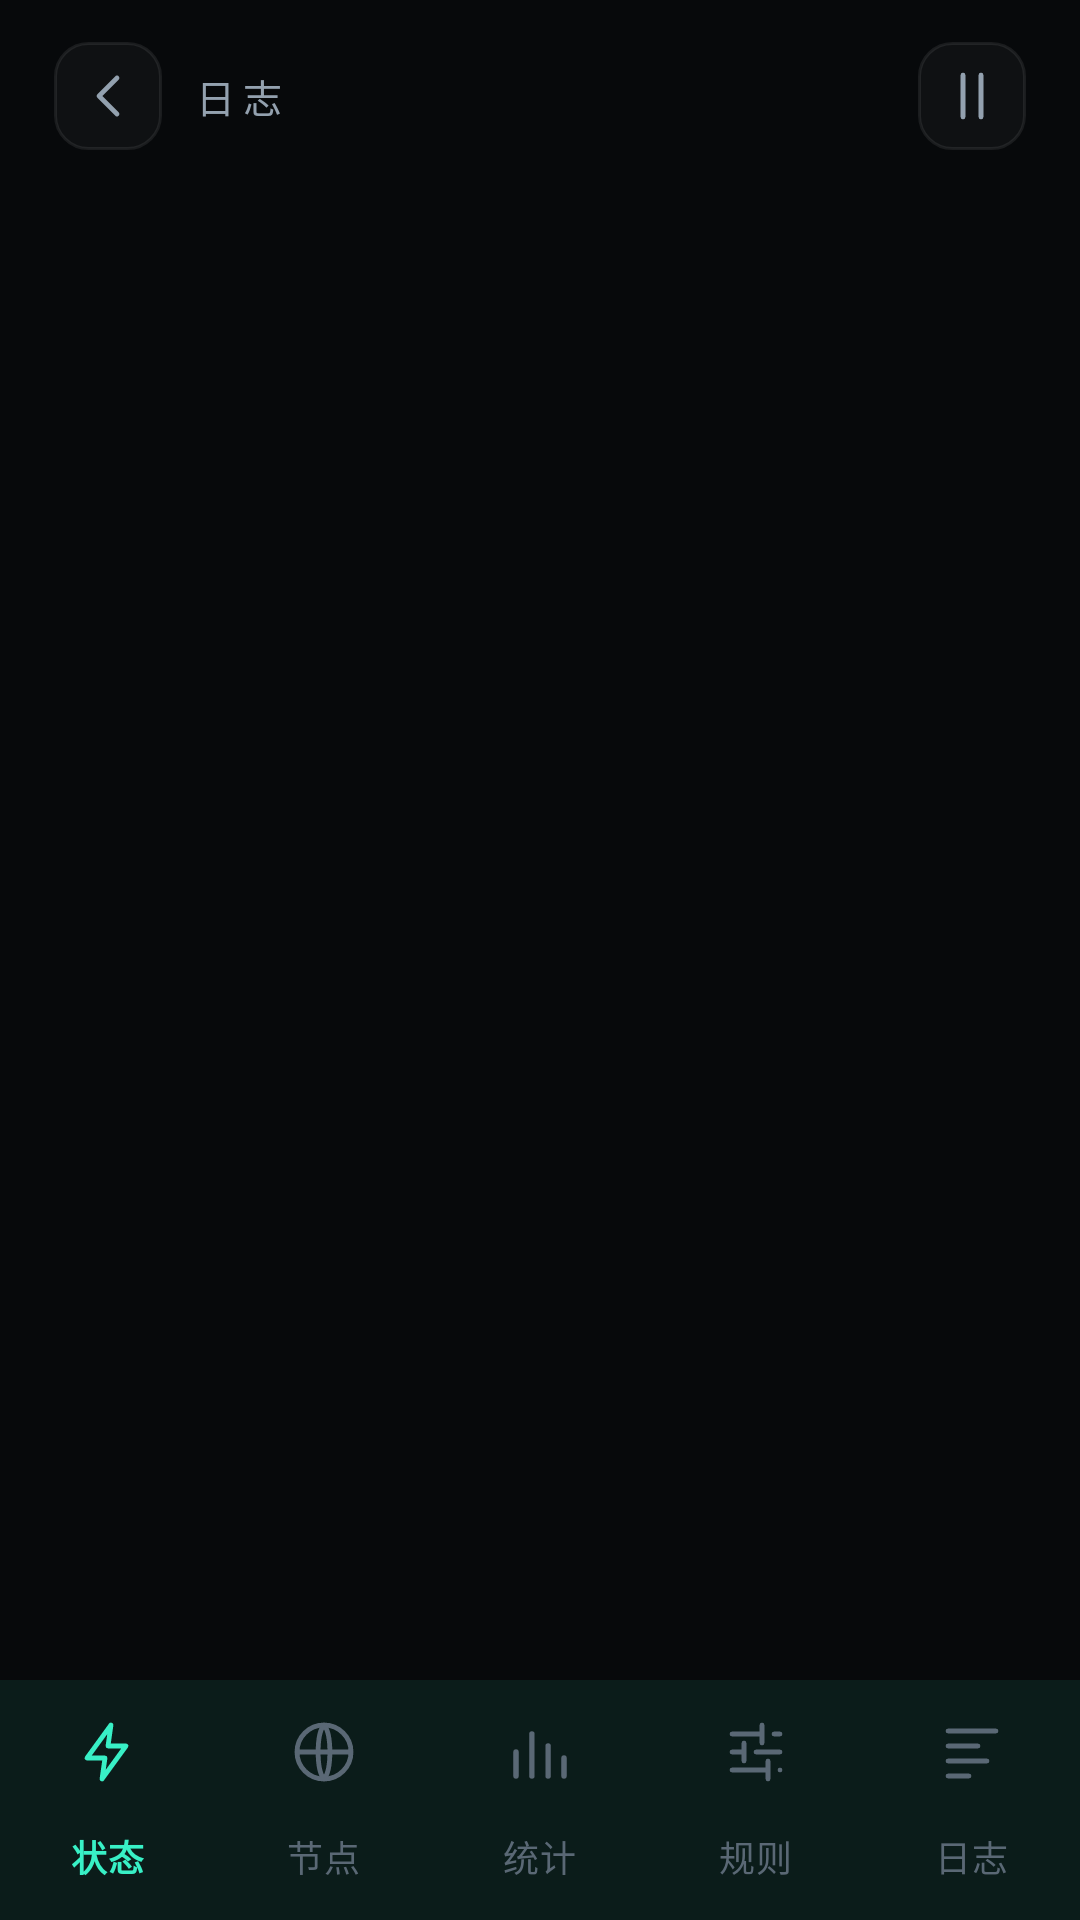

Where to tap for icons on this 1080px×1920px app screen, as (x,y):
暂停: (972,96)
返回: (108,96)
